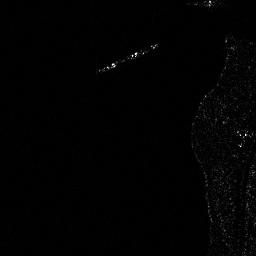ship: (98, 42, 161, 71)
